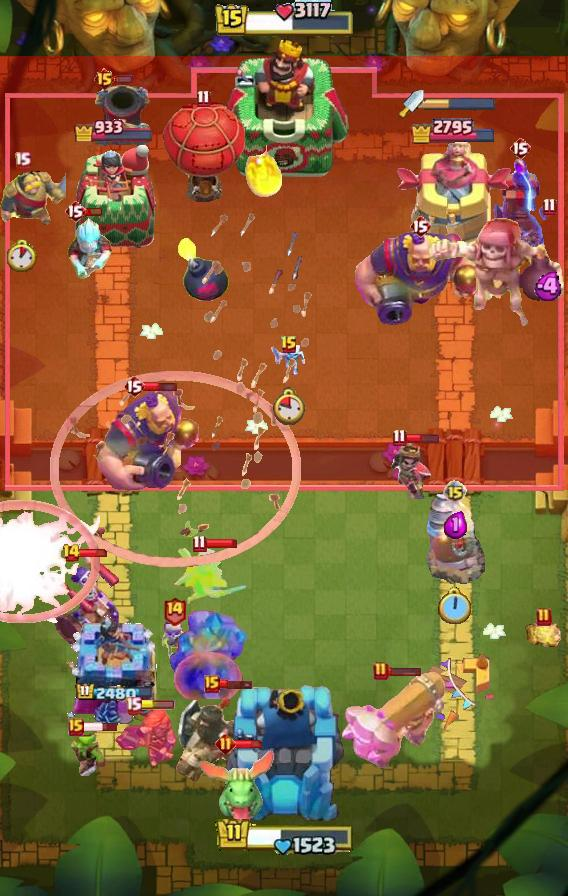baby-dragon: (176, 235, 230, 303)
bar: (394, 142, 512, 256)
barbarian-evolution: (0, 500, 100, 623)
bomber-evolution: (389, 443, 433, 499)
cannon-cart: (161, 100, 245, 202)
cannoneer-tower: (166, 609, 256, 699)
clock: (213, 0, 355, 40), (215, 814, 353, 855)
electro-giant: (426, 216, 568, 330)
electro-spirit: (535, 271, 565, 300), (445, 511, 468, 539)
electro-wizard: (197, 747, 279, 833)
elixir: (438, 587, 474, 627), (273, 387, 306, 425), (7, 239, 37, 272)
emote: (142, 380, 178, 393), (81, 721, 118, 733), (218, 678, 254, 690), (405, 432, 440, 444), (387, 666, 422, 678), (204, 539, 238, 550), (139, 700, 175, 710), (78, 548, 110, 558), (233, 739, 265, 749), (83, 206, 103, 217), (114, 74, 134, 84)
firecracker: (0, 169, 66, 226)
furnace: (339, 671, 449, 777)
goblin: (158, 618, 190, 660)
heal-spirit: (270, 343, 308, 379)
ice-spirit-evolution: (524, 620, 564, 650)
ice-spirit-evolution-symbol: (490, 157, 550, 253)
inferno-dragon: (173, 684, 269, 786)
king-tower: (218, 37, 350, 181), (221, 682, 347, 826)
king-tower-bar: (424, 97, 496, 111)
lightning: (351, 229, 489, 325), (94, 385, 201, 495)
magic-archer: (425, 493, 485, 585)
mortar: (66, 215, 114, 279)
musketeer: (91, 82, 153, 150)
poison: (172, 546, 248, 606)
queen-tower: (65, 614, 162, 730), (71, 144, 157, 255)
selected: (409, 116, 497, 144), (73, 116, 155, 142), (74, 681, 154, 702)
skeleton-barrel: (49, 210, 313, 570)
skeleton-king-bar: (50, 553, 120, 653)
tesla-evolution: (114, 705, 178, 769)
text: (162, 595, 186, 626), (443, 480, 467, 504), (93, 67, 116, 91), (509, 136, 531, 160), (64, 199, 86, 223), (409, 214, 431, 238), (123, 374, 145, 398), (215, 733, 236, 755), (63, 543, 82, 563), (280, 335, 298, 355), (13, 150, 30, 169), (125, 696, 142, 715), (536, 607, 552, 627), (373, 661, 389, 681), (204, 675, 220, 693), (68, 718, 84, 736), (392, 428, 407, 447), (193, 535, 208, 553), (543, 197, 557, 216), (197, 89, 211, 107)
valkyrie: (243, 135, 285, 201)
zap: (66, 730, 114, 776)
